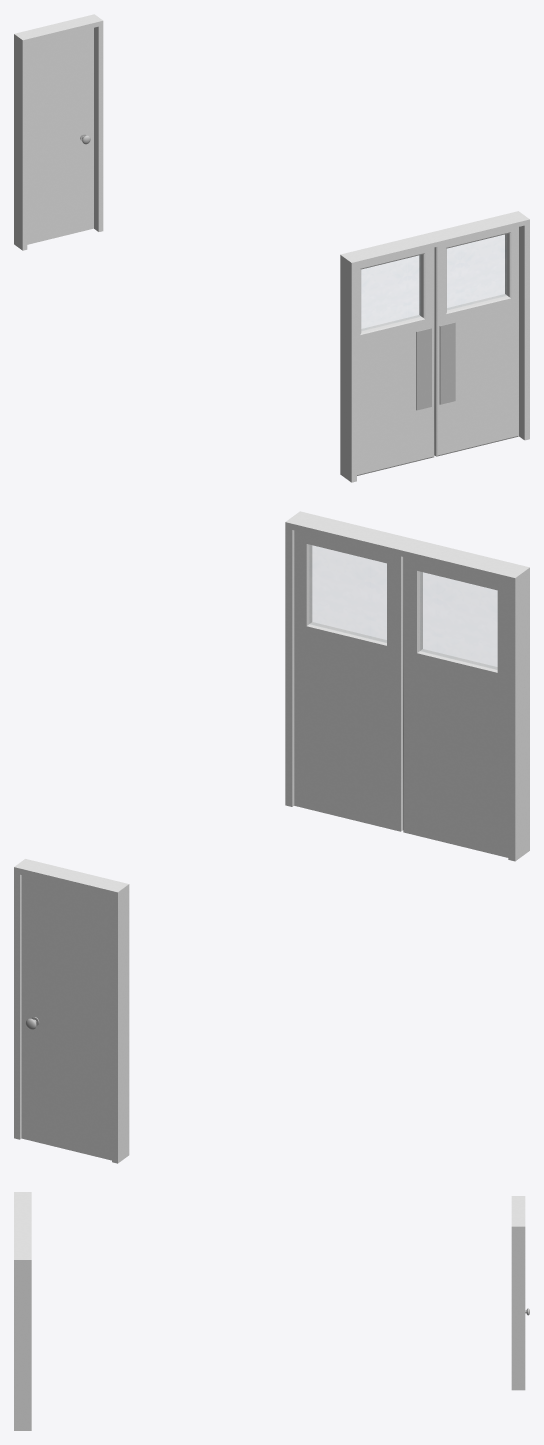
File: Doors.FBX
3 views of the same model, one above another, from view 1: azimuth 30°, elevation 25°; view 2: azimuth 150°, elevation 25°; view 3: azimuth 270°, elevation 25° (orthographic). The views are drawn at different scales.
Visible parts, largest first — view 1: MainDoor_Fold-B, ControlDoor_Fold, MainDoor_Fold-A, MainDoor, ControlDoor_001, MainDoor_Fold-B-Glass, MainDoor_Fold-A-Glass; view 2: MainDoor_Fold-B, ControlDoor_Fold, MainDoor_Fold-A, MainDoor, ControlDoor_001, MainDoor_Fold-B-Glass, MainDoor_Fold-A-Glass; view 3: MainDoor, ControlDoor_001.
Boxes of the visible parts, x1,y1,x2,y2 form: MainDoor_Fold-B: (434, 227, 518, 456); ControlDoor_Fold: (27, 28, 93, 244); MainDoor_Fold-A: (357, 247, 434, 475); MainDoor: (340, 211, 529, 482); ControlDoor_001: (14, 14, 103, 250); MainDoor_Fold-B-Glass: (447, 234, 506, 309); MainDoor_Fold-A-Glass: (362, 255, 420, 330); MainDoor_Fold-B: (294, 530, 403, 831); ControlDoor_Fold: (21, 875, 111, 1160); MainDoor_Fold-A: (403, 557, 508, 857); MainDoor: (285, 511, 529, 861); ControlDoor_001: (14, 859, 129, 1163); MainDoor_Fold-B-Glass: (310, 545, 386, 642); MainDoor_Fold-A-Glass: (420, 572, 496, 669); MainDoor: (14, 1192, 31, 1430); ControlDoor_001: (511, 1196, 525, 1390).
Size of the model in its own units: 2.1 by 6.43 by 2.35.
4 materials, 4 textured.
